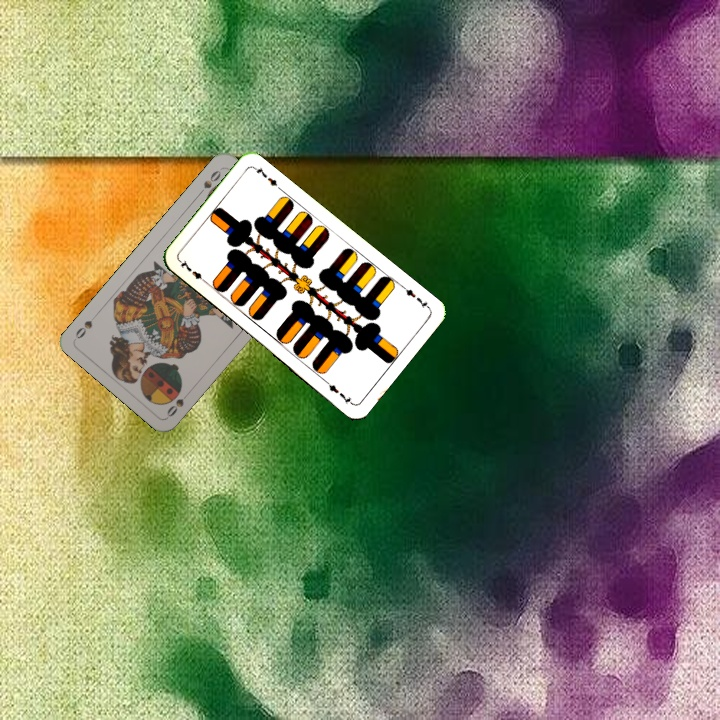E7: (175, 256, 210, 286), (398, 282, 432, 311)
SO: (194, 164, 225, 198), (163, 386, 194, 420)
